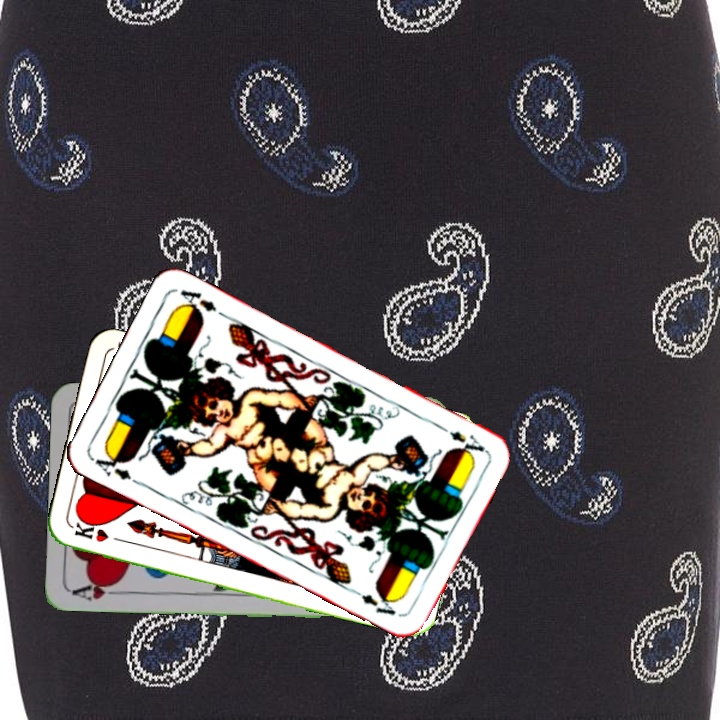EA: (89, 446, 144, 488), (445, 427, 488, 458)
HA: (69, 576, 128, 603)
HK: (70, 518, 129, 546)
